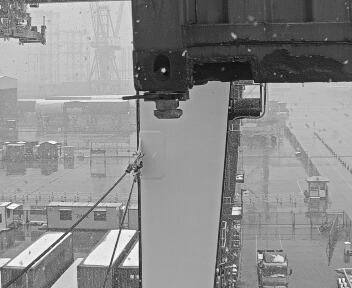twist_lock_1: (137, 84, 194, 129)
